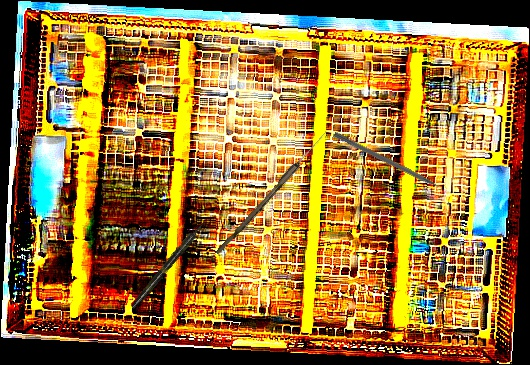Handpiece: (129, 219, 208, 311)
Pusher: (332, 131, 454, 198)
Surgical Spoon: (215, 128, 329, 258)
